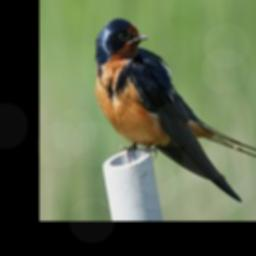Swallow: (92, 14, 256, 198)
